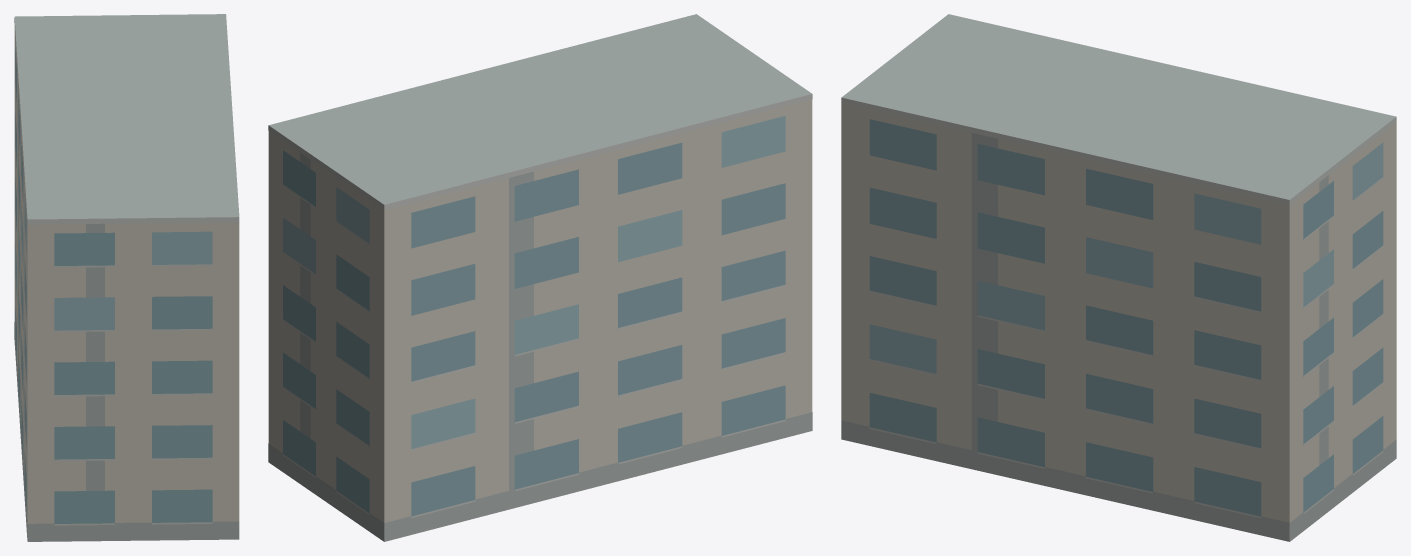
The model's file is residential-e65a083d-ae26-42ef-a8e0-bad2f62a50cd.glb.
3 views of the same model, side by side, from view 1: azimuth 30°, elevation 25°; view 2: azimuth 150°, elevation 25°; view 3: azimuth 270°, elevation 25° (orthographic). The views are drawn at different scales.
Parts seen in each view (by area): view 1: residential-e65a083d-ae26-42ef-a8e0-bad2f62a50cd.tmp; view 2: residential-e65a083d-ae26-42ef-a8e0-bad2f62a50cd.tmp; view 3: residential-e65a083d-ae26-42ef-a8e0-bad2f62a50cd.tmp.
Part boxes in pixels (box(x1,y1,x2,y2)): residential-e65a083d-ae26-42ef-a8e0-bad2f62a50cd.tmp: box(14, 14, 239, 541); residential-e65a083d-ae26-42ef-a8e0-bad2f62a50cd.tmp: box(268, 14, 812, 541); residential-e65a083d-ae26-42ef-a8e0-bad2f62a50cd.tmp: box(841, 14, 1396, 541).
Bounding box in the file's own units: 17.8 × 15.25 × 22.45.
